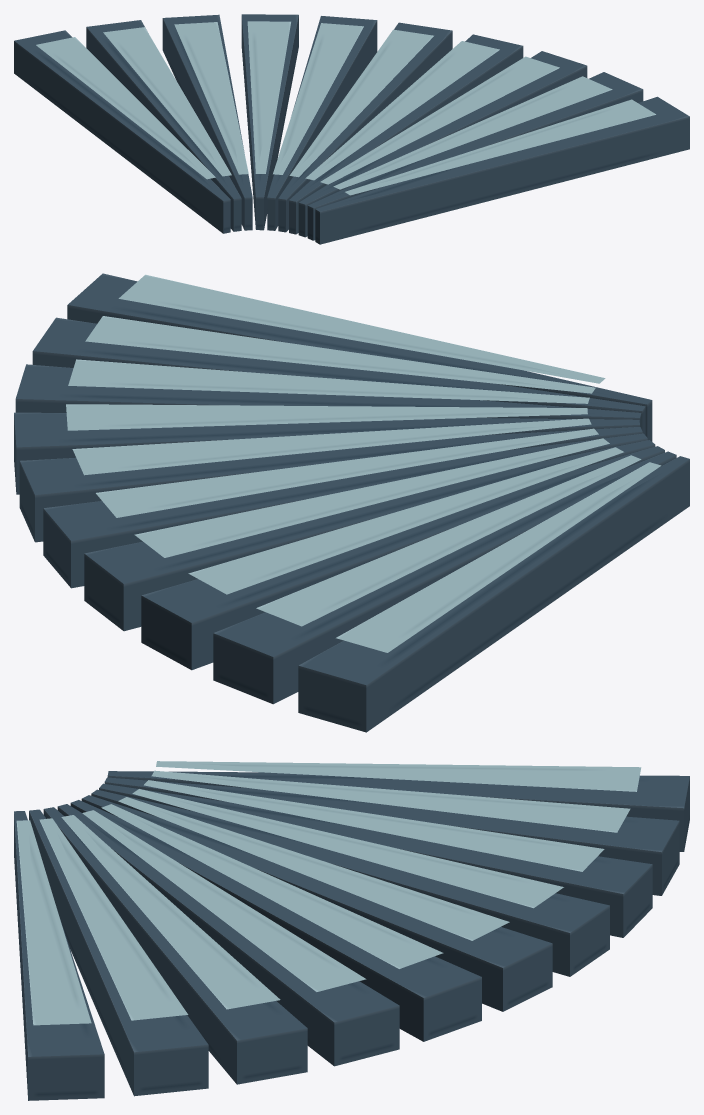
Rendered from sc_tread_curve_left_3.obj.
The picture shows the model from 3 angles, top to bottom: view 1: azimuth 30°, elevation 25°; view 2: azimuth 150°, elevation 25°; view 3: azimuth 270°, elevation 25°; orthographic projection. The views are drawn at different scales.
Size of the model in its own units: 17.45 by 1.56 by 17.44.
1 material, 1 textured.
